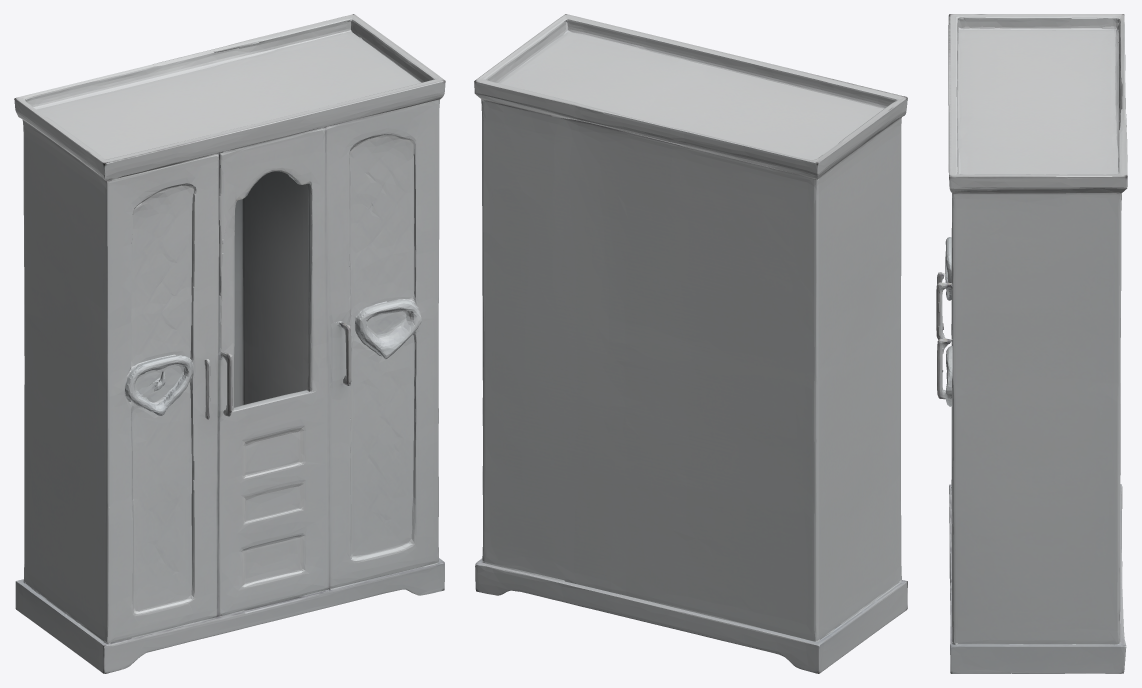
File: robe_3door_metal_mirror_white.glb
3 renders of one model, left to right at view 1: azimuth 30°, elevation 25°; view 2: azimuth 150°, elevation 25°; view 3: azimuth 270°, elevation 25°, orthographic. The views are drawn at different scales.
Visible parts, largest first — view 1: world; view 2: world; view 3: world.
Part boxes in pixels (bbox=[...]): world: bbox=[14, 14, 445, 673]; world: bbox=[474, 14, 907, 673]; world: bbox=[936, 14, 1127, 673].
Size of the model in its own units: 0.7009 by 1 by 0.3484.
Materials: 1 (1 with a texture image).
